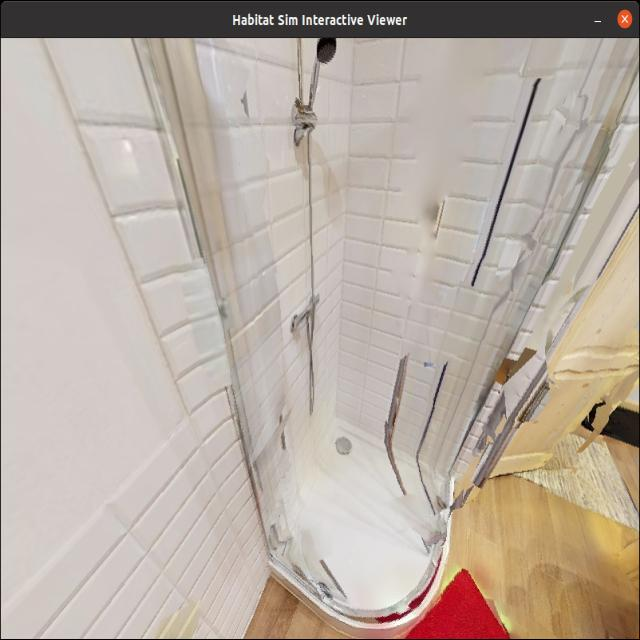shower: (130, 37, 525, 637)
